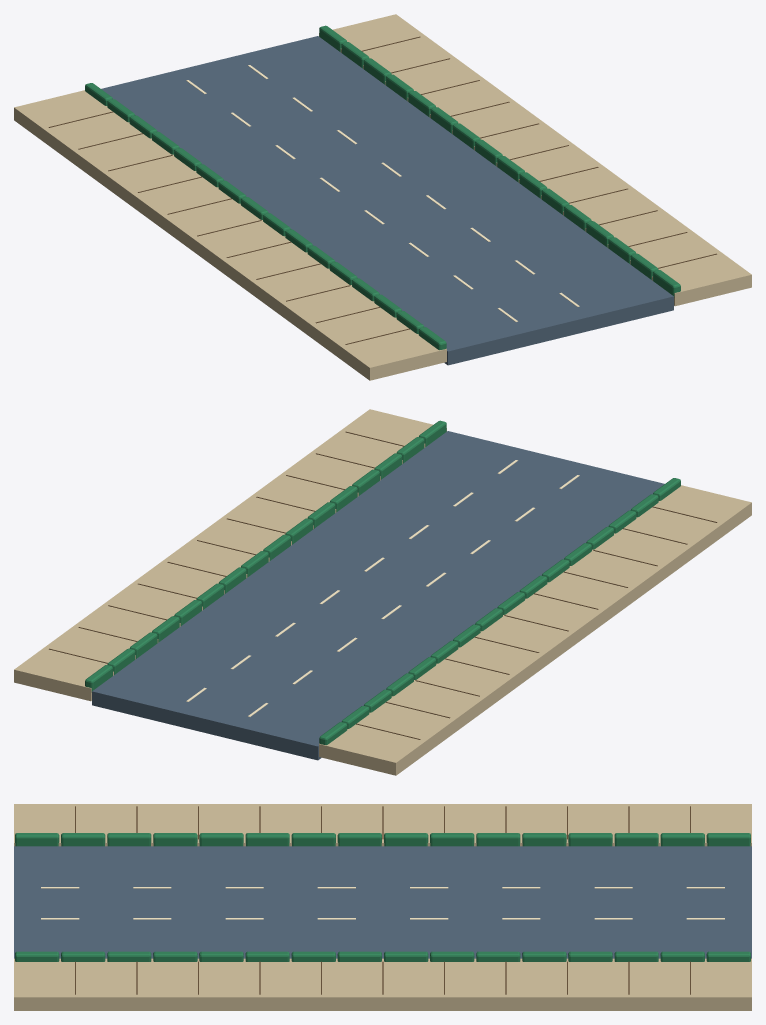
Rendered from road-section.glb.
The picture shows the model from 3 angles, top to bottom: view 1: azimuth 30°, elevation 25°; view 2: azimuth 150°, elevation 25°; view 3: azimuth 270°, elevation 25°; orthographic projection. The views are drawn at different scales.
Visible parts, largest first — view 1: Boulevard_road, Boulevard_sidewalk, Boulevard_green.005, Boulevard_soil.001, Boulevard_cream.004; view 2: Boulevard_road, Boulevard_sidewalk, Boulevard_green.005, Boulevard_soil.001, Boulevard_cream.004; view 3: Boulevard_road, Boulevard_sidewalk, Boulevard_green.005, Boulevard_cream.004, Boulevard_soil.001.
Part boxes in pixels (x1,y1,x2,y2): Boulevard_road: (101, 36, 673, 365); Boulevard_sidewalk: (14, 14, 751, 380); Boulevard_green.005: (85, 25, 680, 350); Boulevard_soil.001: (48, 36, 716, 344); Boulevard_cream.004: (186, 65, 579, 321); Boulevard_road: (92, 431, 664, 760); Boulevard_sidewalk: (14, 409, 751, 775); Boulevard_green.005: (85, 420, 680, 745); Boulevard_soil.001: (49, 431, 717, 739); Boulevard_cream.004: (186, 460, 579, 716); Boulevard_road: (14, 846, 751, 958); Boulevard_sidewalk: (14, 804, 751, 1010); Boulevard_green.005: (15, 833, 750, 961); Boulevard_cream.004: (41, 887, 724, 919); Boulevard_soil.001: (75, 806, 690, 994).
Size of the model in its own units: 7.44 by 0.44 by 12.
